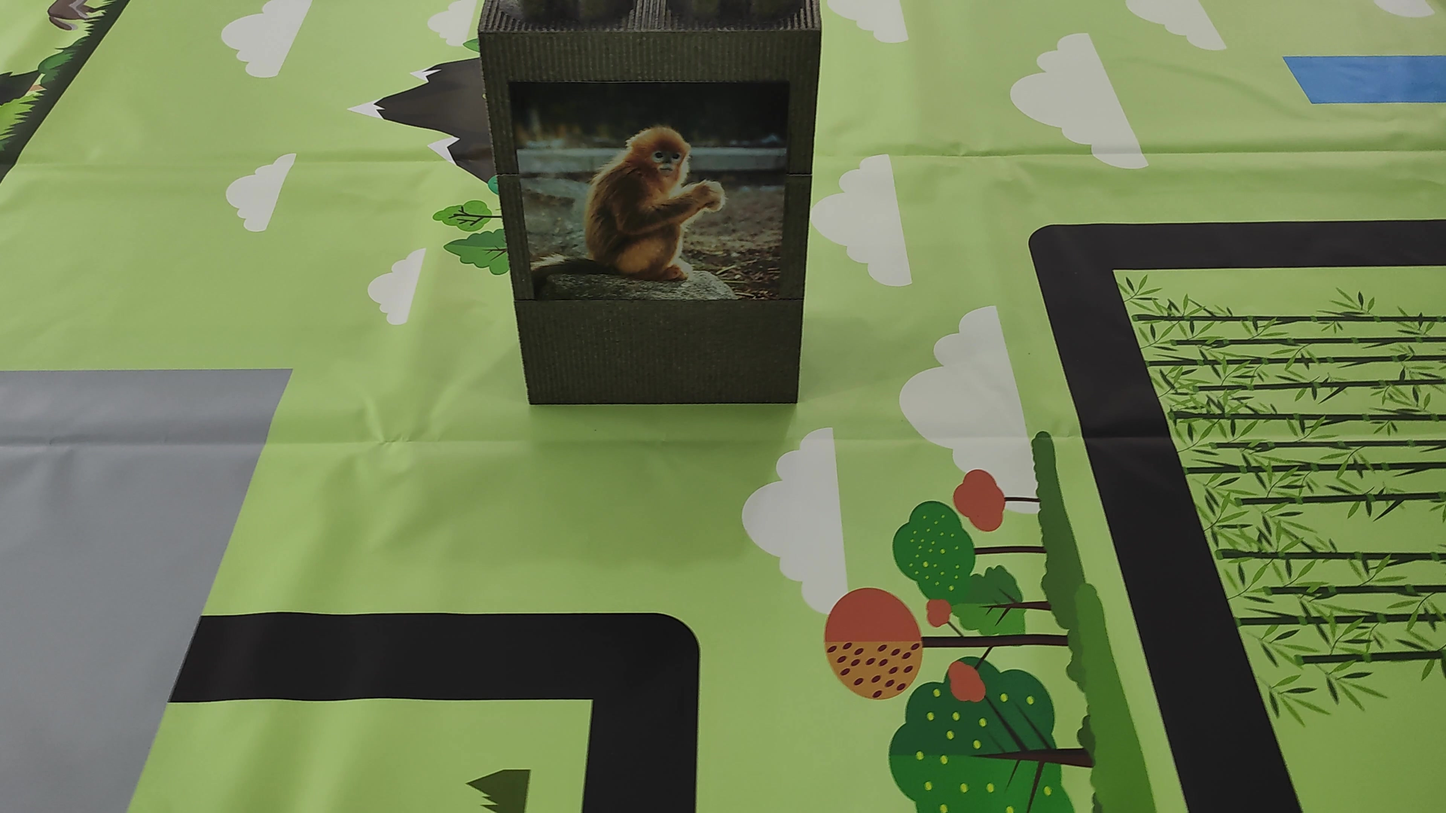monkey: (523, 85, 767, 291)
